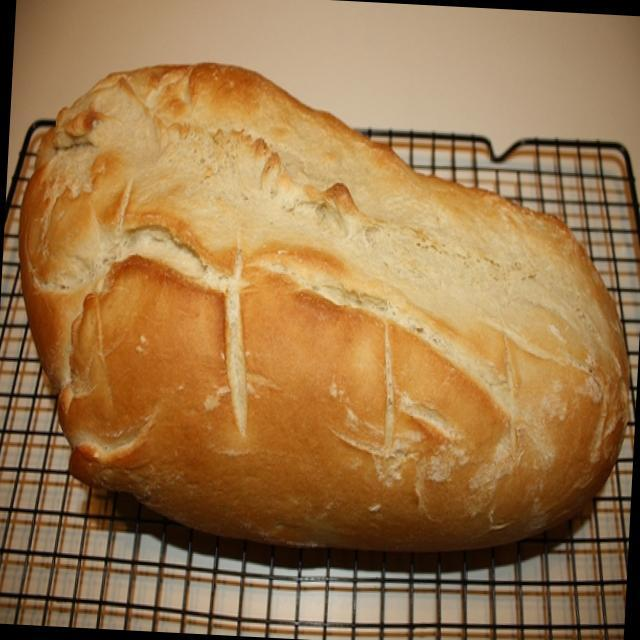Bread: (3, 53, 640, 573)
